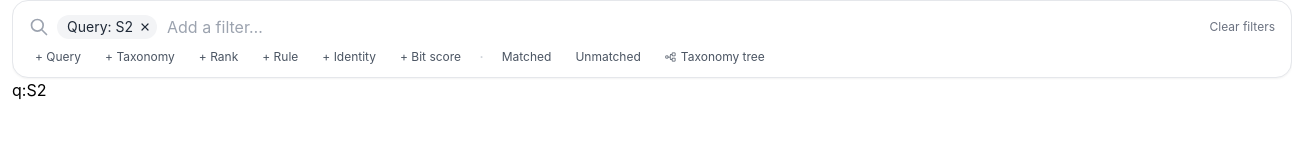
FilterBar › Backspace while typing edits the draft and keeps the chips
Type "ab" into the dropdown named "Filter records" at {"x": 683, "y": 27}, box [165,13,1202,41]
Then press Backspace
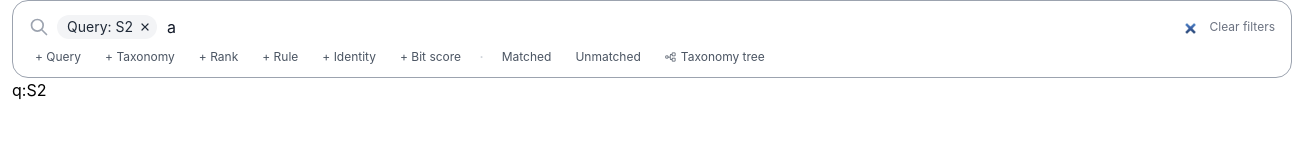
Expected: the dropdown named "Filter records" holds "a", [165,13,1202,41]
